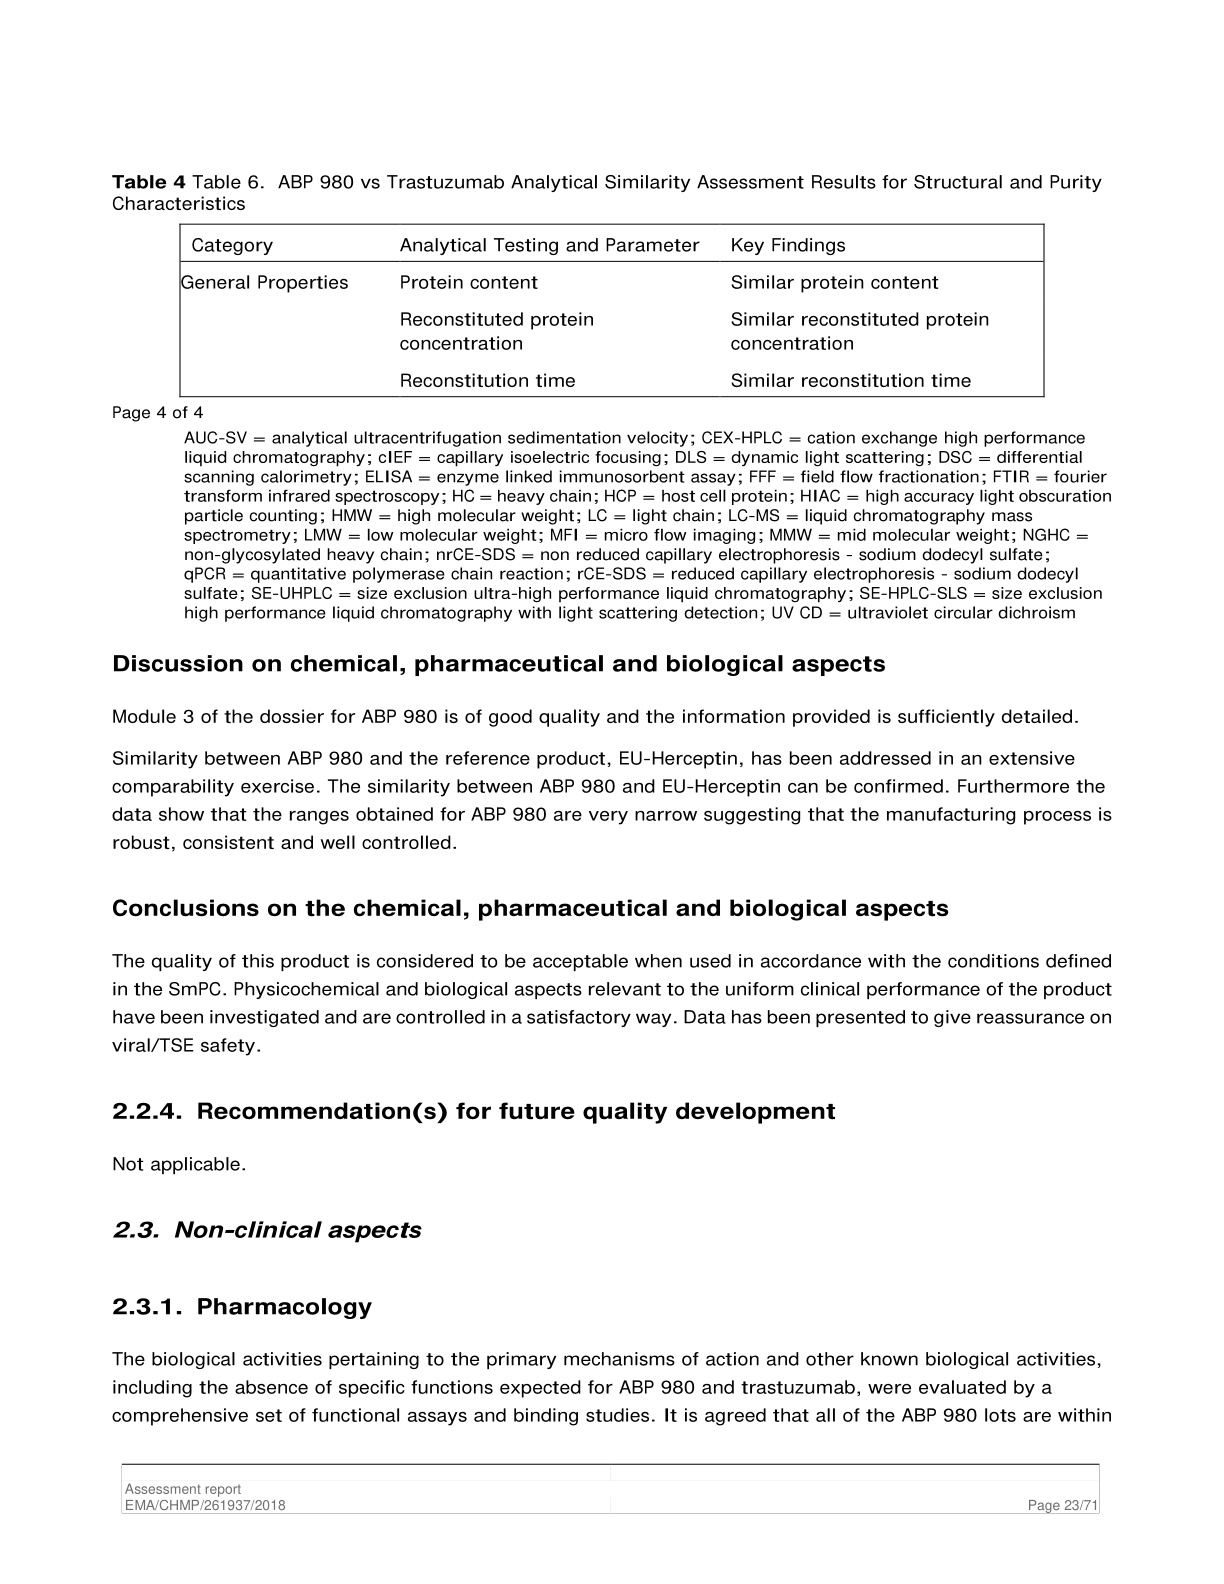partial_lined: (176, 221, 1048, 400)
